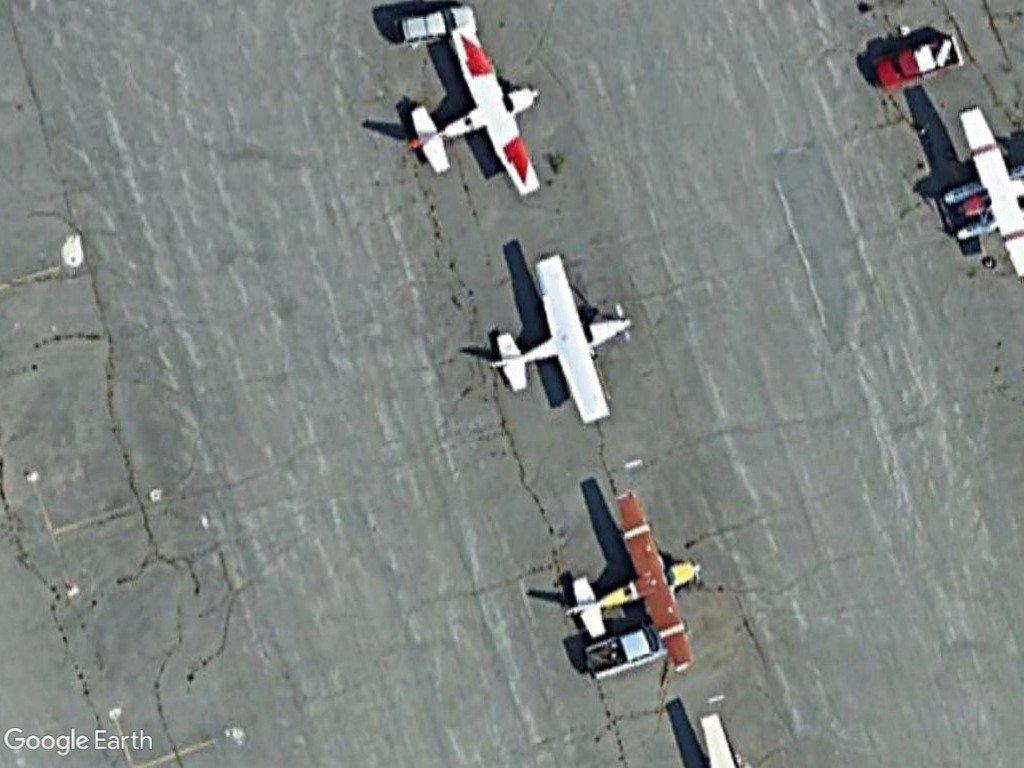car: (396, 2, 485, 51)
other: (869, 26, 968, 96)
trainer: (485, 247, 636, 435), (558, 487, 702, 681)
